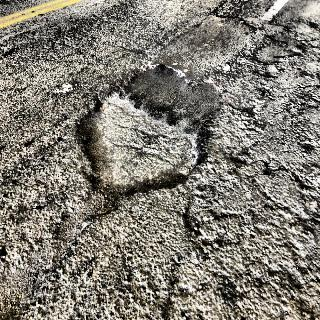pothole: (72, 62, 228, 197)
